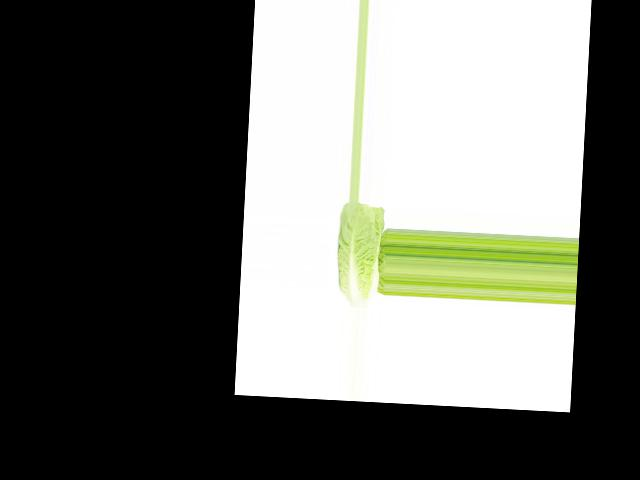lettuce: (327, 200, 383, 308)
